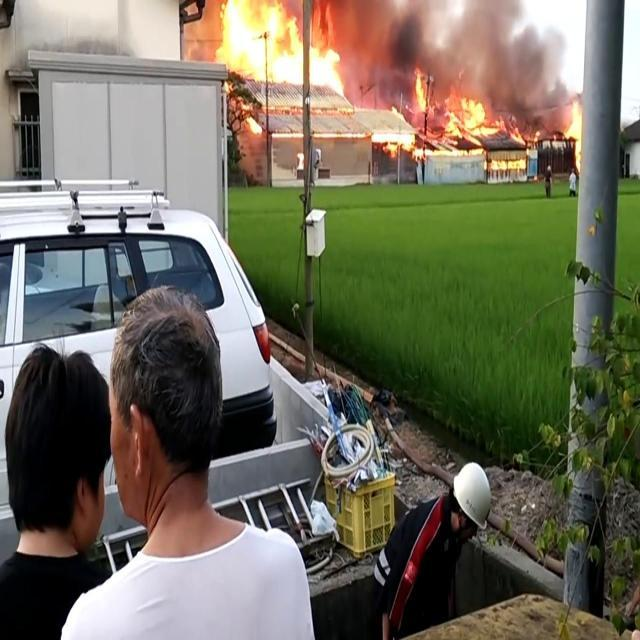Fire: (216, 0, 344, 94), (414, 75, 501, 136), (383, 140, 483, 158), (564, 104, 584, 168), (489, 157, 527, 170)
Smoke: (412, 2, 574, 85), (346, 3, 412, 112), (504, 91, 574, 136)
